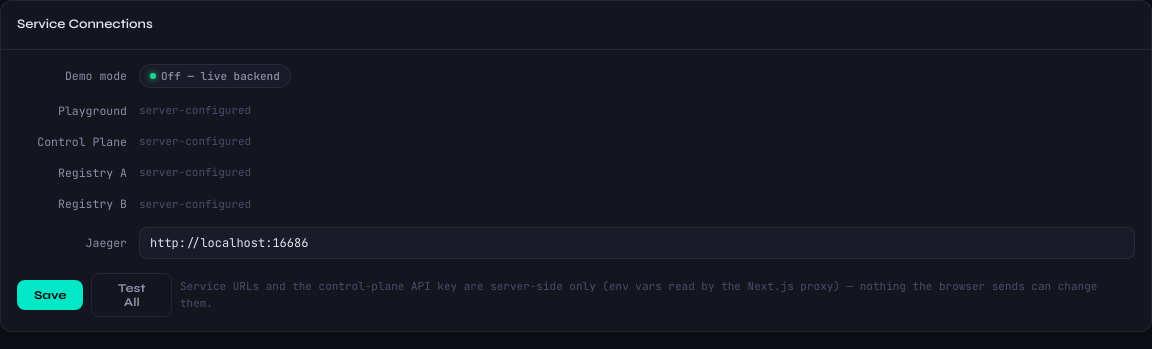
ConnectionPanel — Test All renders the failure kind, not just a dot › renders both a degraded and an unreachable row distinctly, each with its own latency
Click the button "Test All".
click(132, 294)  # box top-left (91, 272), bottom-right (172, 316)
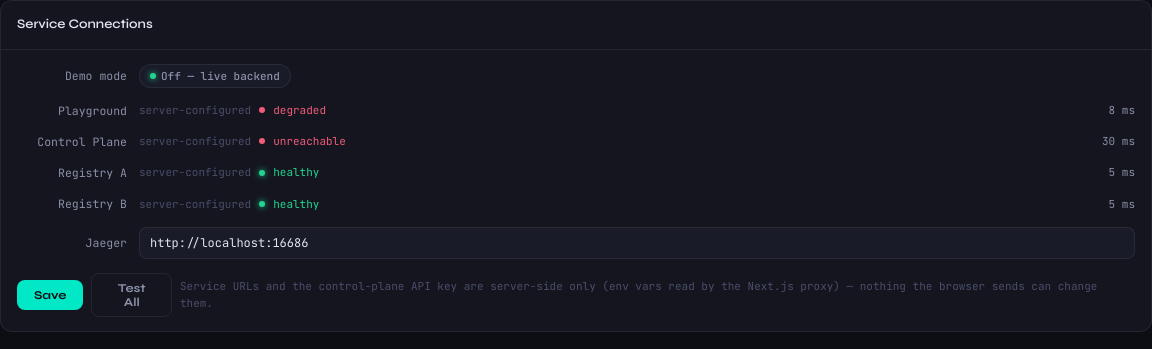
expect the text "degraded" is shown: met, box top-left (273, 102), bottom-right (326, 118)
expect the text "unreachable" is shown: met, box top-left (273, 133), bottom-right (346, 150)
expect the text "8 ms" is shown: met, box top-left (1109, 102), bottom-right (1135, 118)
